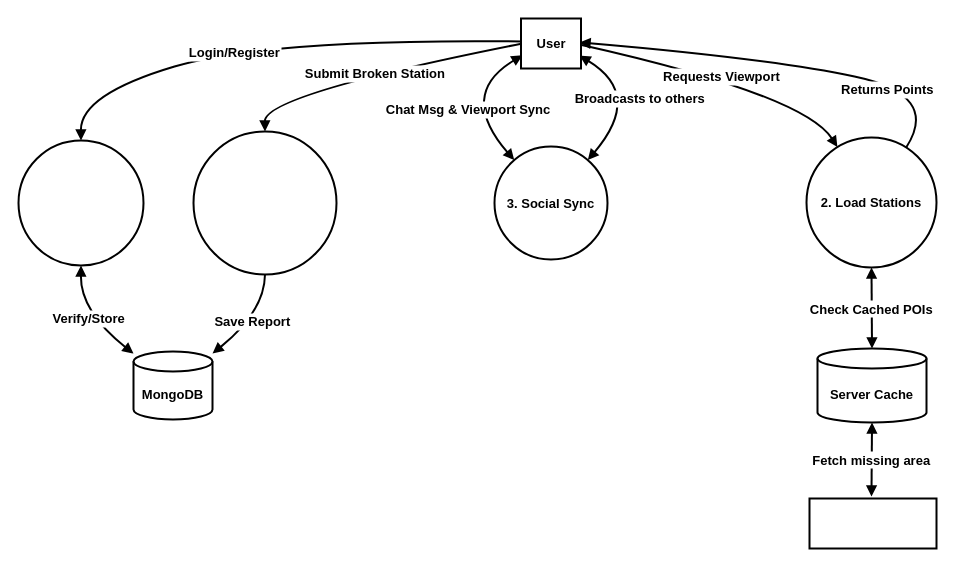
This 954x566 diagram has some shape labels left out. Each missing label, with the centre of its shape:
"1. Manage Auth" belongs at (80,202).
"4. Handle Reports" belongs at (264,202).
"Overpass API" belongs at (872,523).
